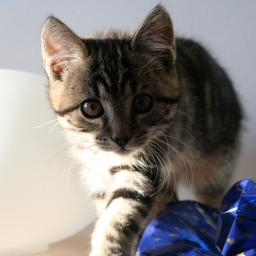catnose: (110, 133, 132, 147)
